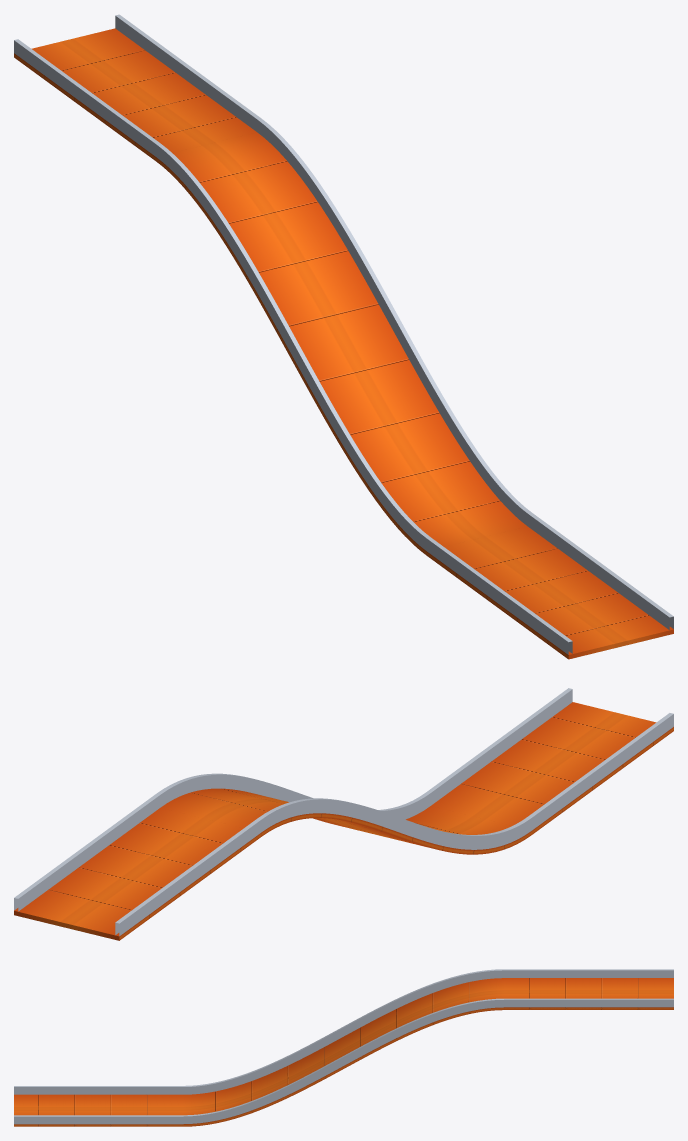
File: bridge-ramp-down.glb
3 views of the same model, one above another, from view 1: azimuth 30°, elevation 25°; view 2: azimuth 150°, elevation 25°; view 3: azimuth 270°, elevation 25° (orthographic). The views are drawn at different scales.
Size of the model in its own units: 3 by 5.8 by 27.33.
4 materials, 3 textured.
